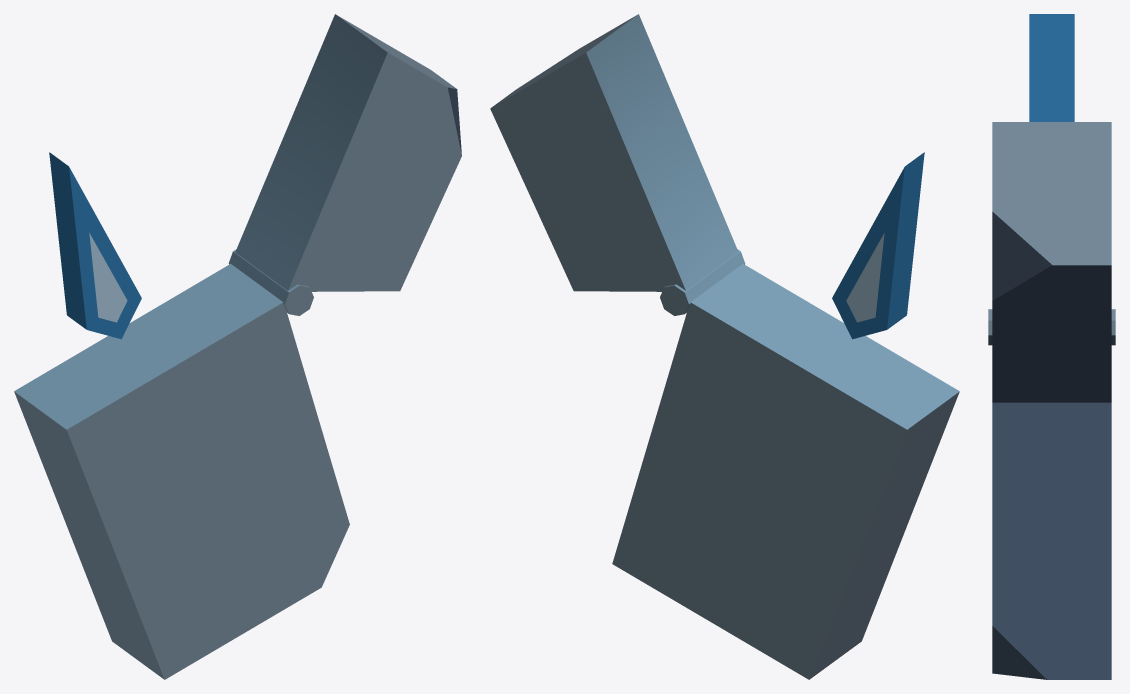
The model's file is lighter.fbx.
3 renders of one model, left to right at view 1: azimuth 30°, elevation 25°; view 2: azimuth 150°, elevation 25°; view 3: azimuth 270°, elevation 25°, orthographic. The views are drawn at different scales.
Visible parts, largest first — view 1: lighter; view 2: lighter; view 3: lighter.
Part boxes in pixels (<box>): lighter: <box>14,14,461,679</box>; lighter: <box>490,14,959,679</box>; lighter: <box>988,14,1115,679</box>.
Bounding box in the file's own units: 0.197 × 0.2585 × 0.046.
